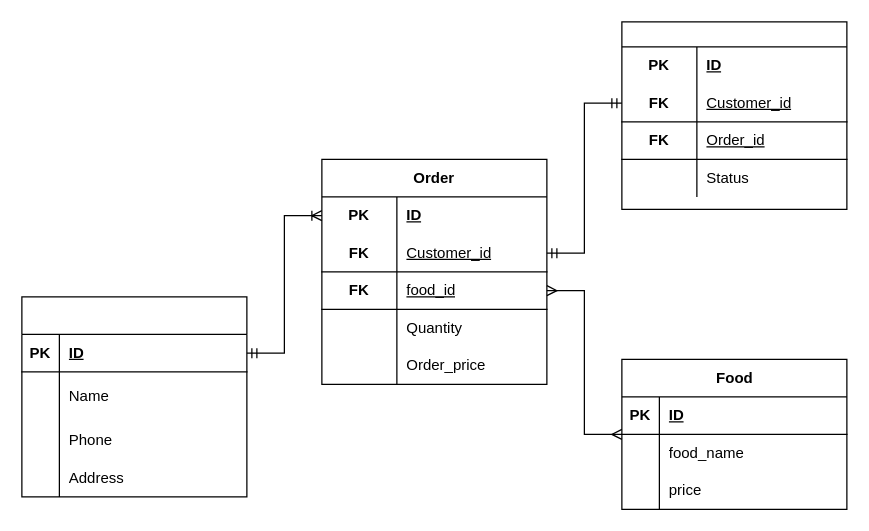
This 869x531 diagram has some shape labels left out. Each missing label, with the box of its shape:
Customer: (21, 296, 247, 497)
Ship: (621, 21, 847, 209)
